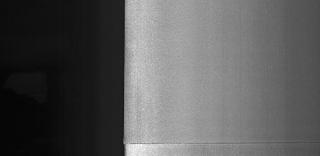welding line: (123, 138, 319, 146)
